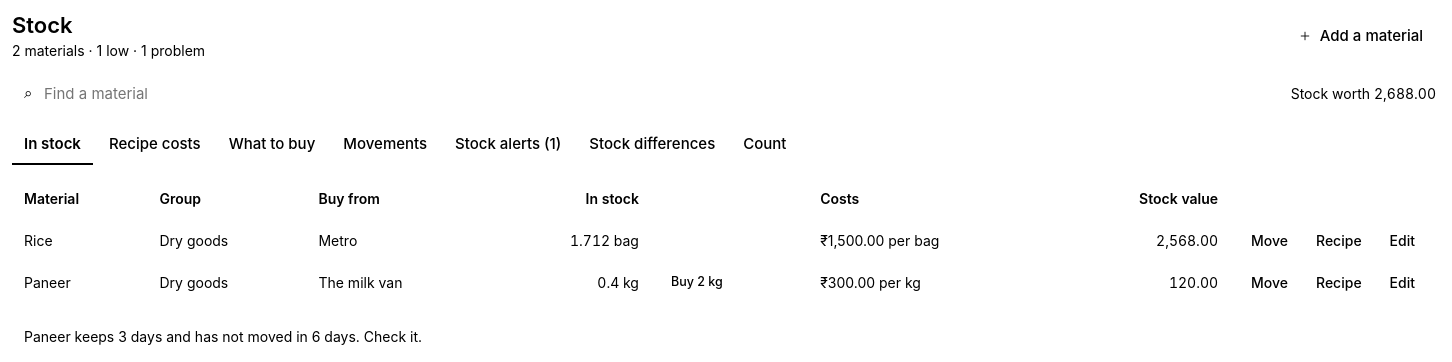
Test: the stock screen › shows a movement in the unit it was typed in, with its direction
Click the tab "Movements": point(385, 146) left=331, top=126, right=439, bottom=164
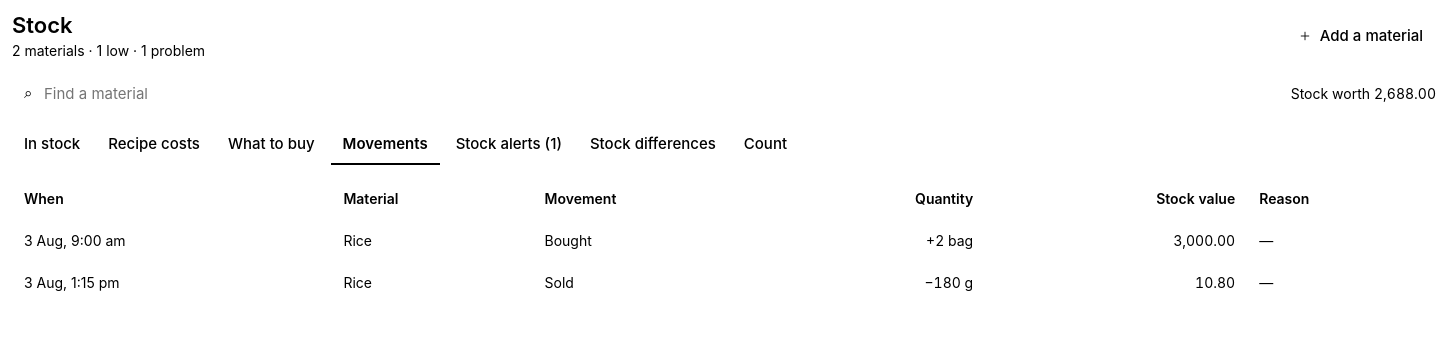
expect the text "+2 bag" is shown: met, box left=926, top=232, right=973, bottom=249
expect the text "−180 g" is shown: met, box left=924, top=274, right=973, bottom=291
